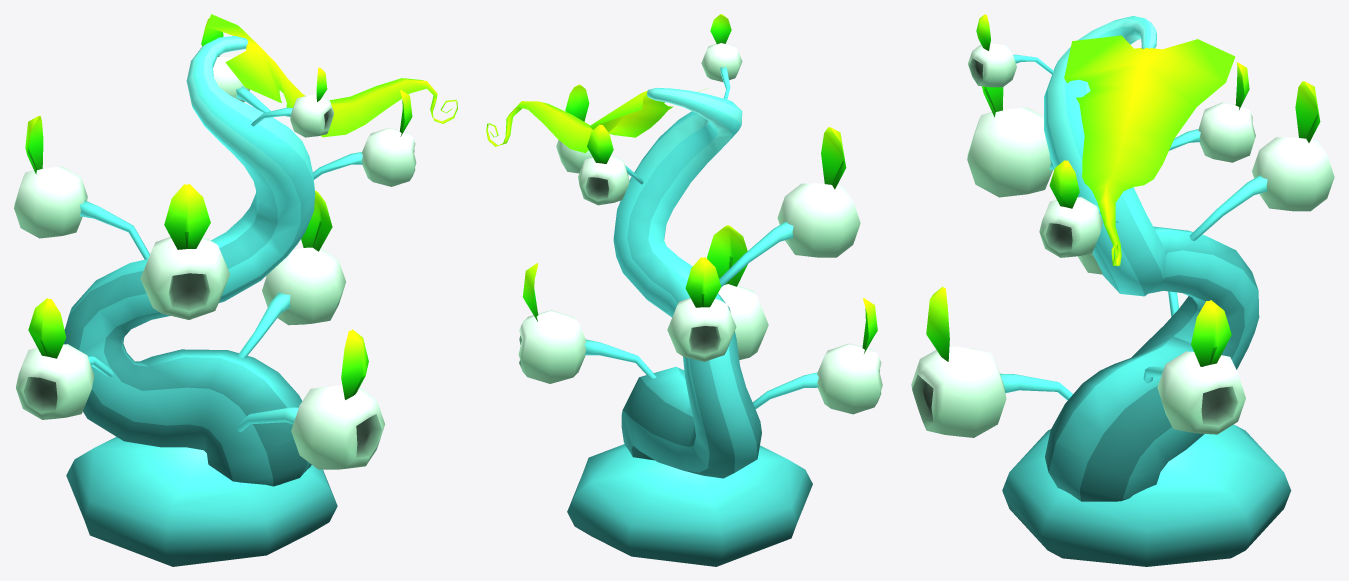
The model's file is snake_eye_vine.glb.
The picture shows the model from 3 angles, left to right: view 1: azimuth 30°, elevation 25°; view 2: azimuth 150°, elevation 25°; view 3: azimuth 270°, elevation 25°; orthographic projection. The views are drawn at different scales.
Parts seen in each view (by area): view 1: Snake-Eye Vine; view 2: Snake-Eye Vine; view 3: Snake-Eye Vine.
Part boxes in pixels (bbox=[...]): Snake-Eye Vine: bbox=[14, 14, 457, 566]; Snake-Eye Vine: bbox=[486, 14, 882, 566]; Snake-Eye Vine: bbox=[911, 14, 1334, 566].
Bounding box in the file's own units: 1.36 × 1.5 × 1.07.
1 material, 1 textured.
